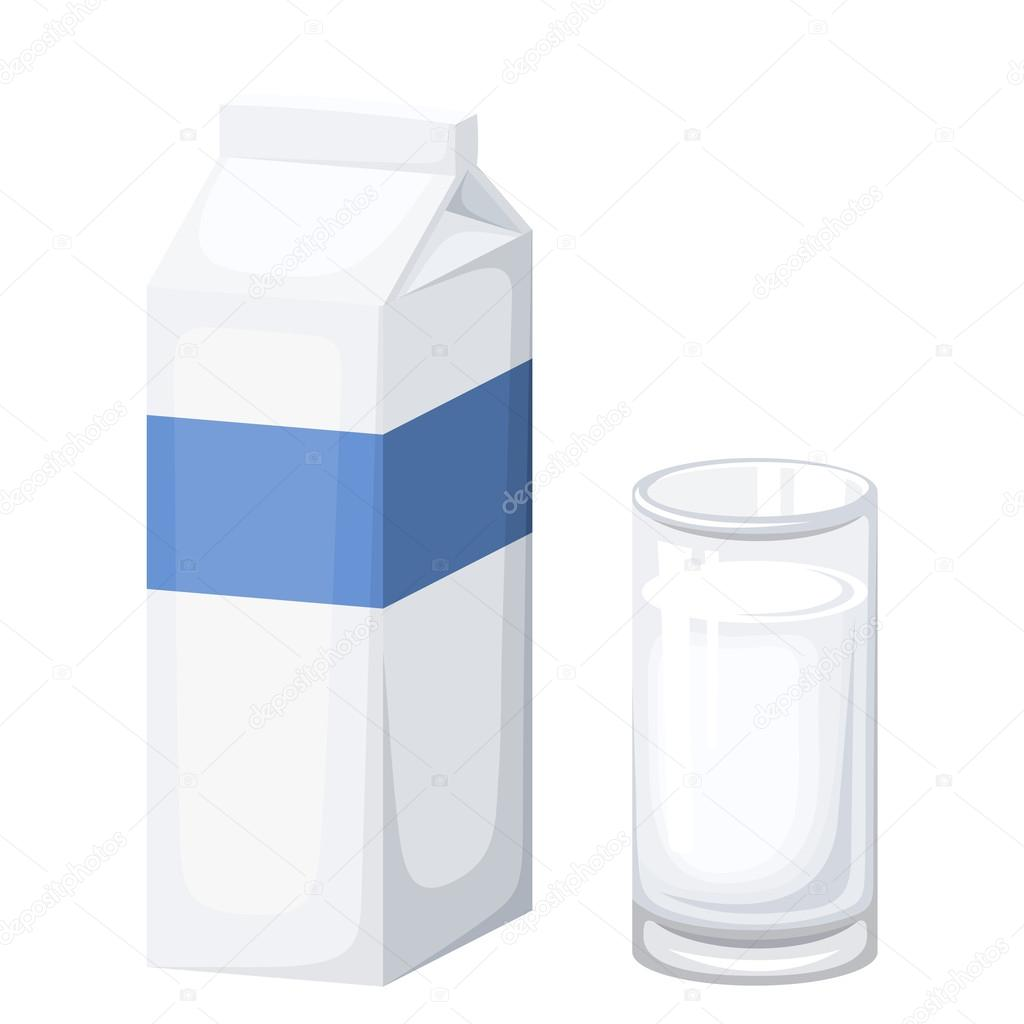glass of milk: (627, 478, 868, 960)
